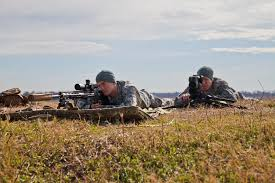Gun: (30, 87, 104, 107), (187, 74, 206, 99)
